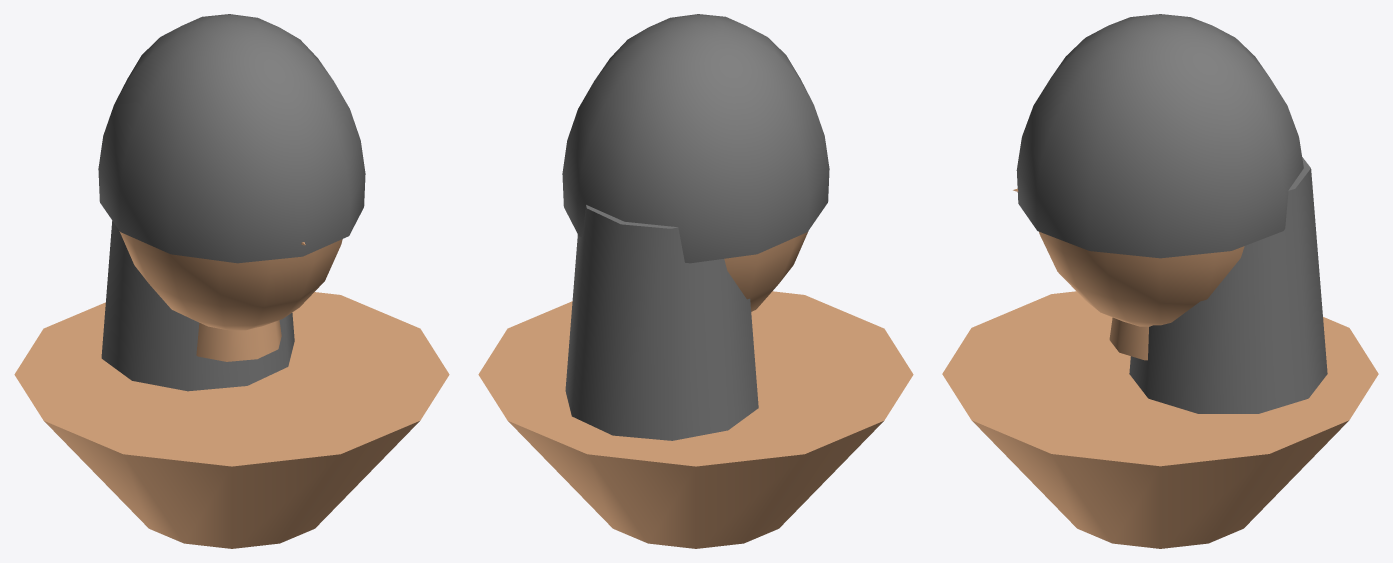
Rendered from portrait10t_001.glb.
3 views of the same model, side by side, from view 1: azimuth 30°, elevation 25°; view 2: azimuth 150°, elevation 25°; view 3: azimuth 270°, elevation 25° (orthographic).
Size of the model in its own units: 1.8 by 2.21 by 1.8.
